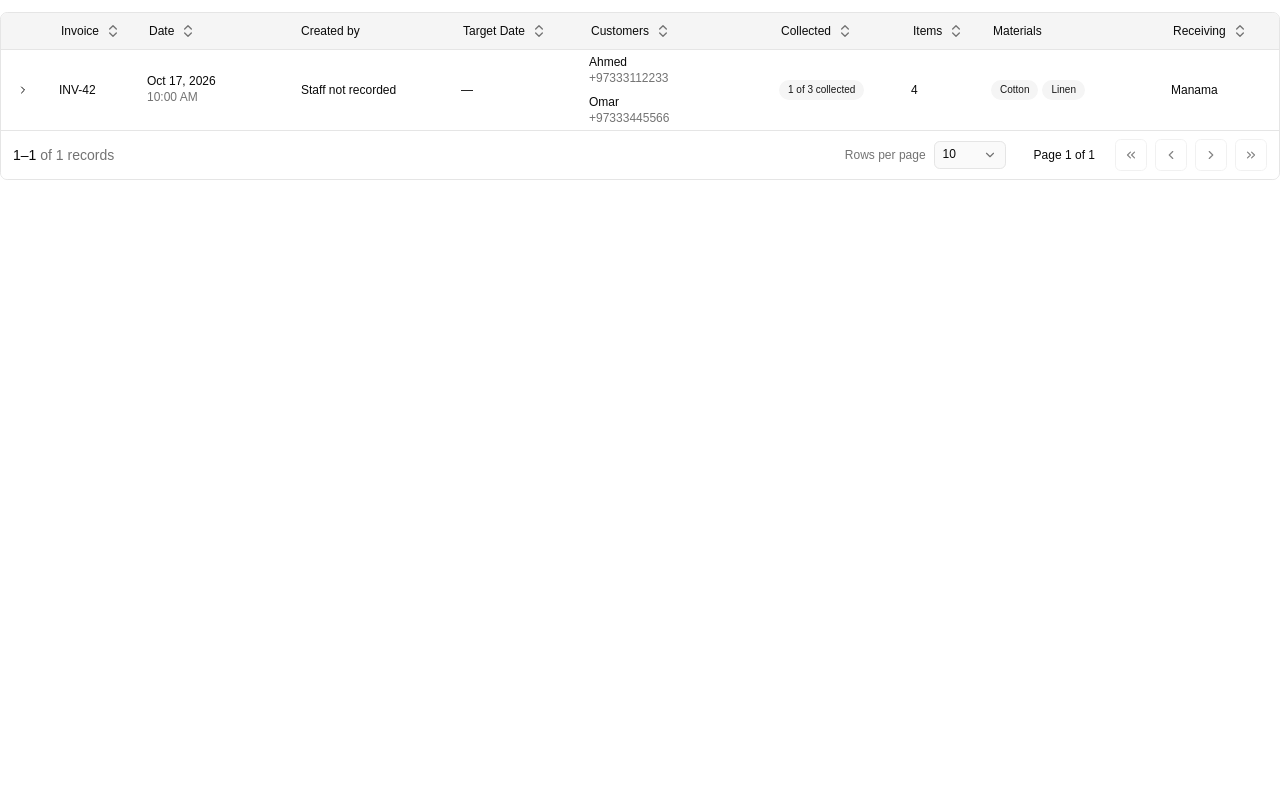
Scenario: Invoice table › shows failures and retries the breakdown instead of showing an empty invoice
Click the button named "Show orders" at (23, 90), box [11,78,35,102]
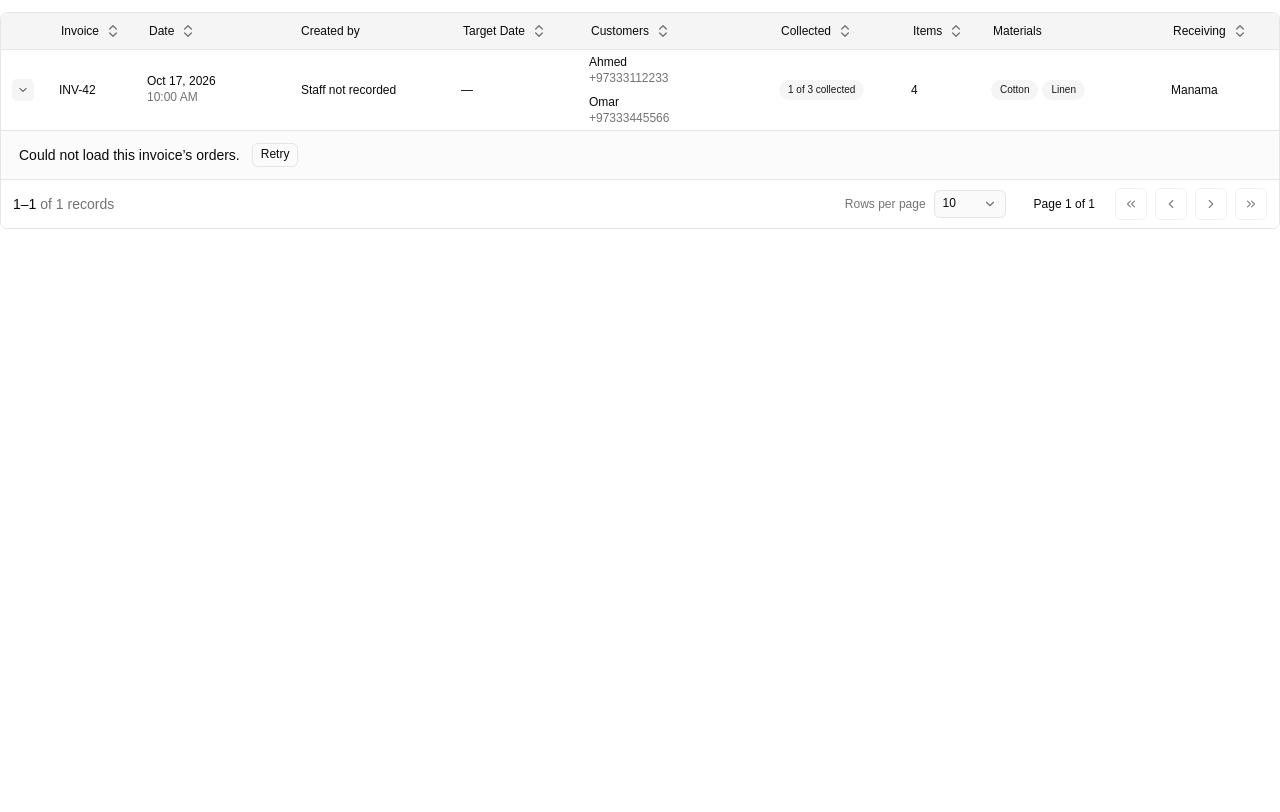
Now the message "Could not load this invoice’s orders. Retry" is shown, box [19,142,298,166]
Click the button "Retry" at (275, 154), box [252,142,298,166]
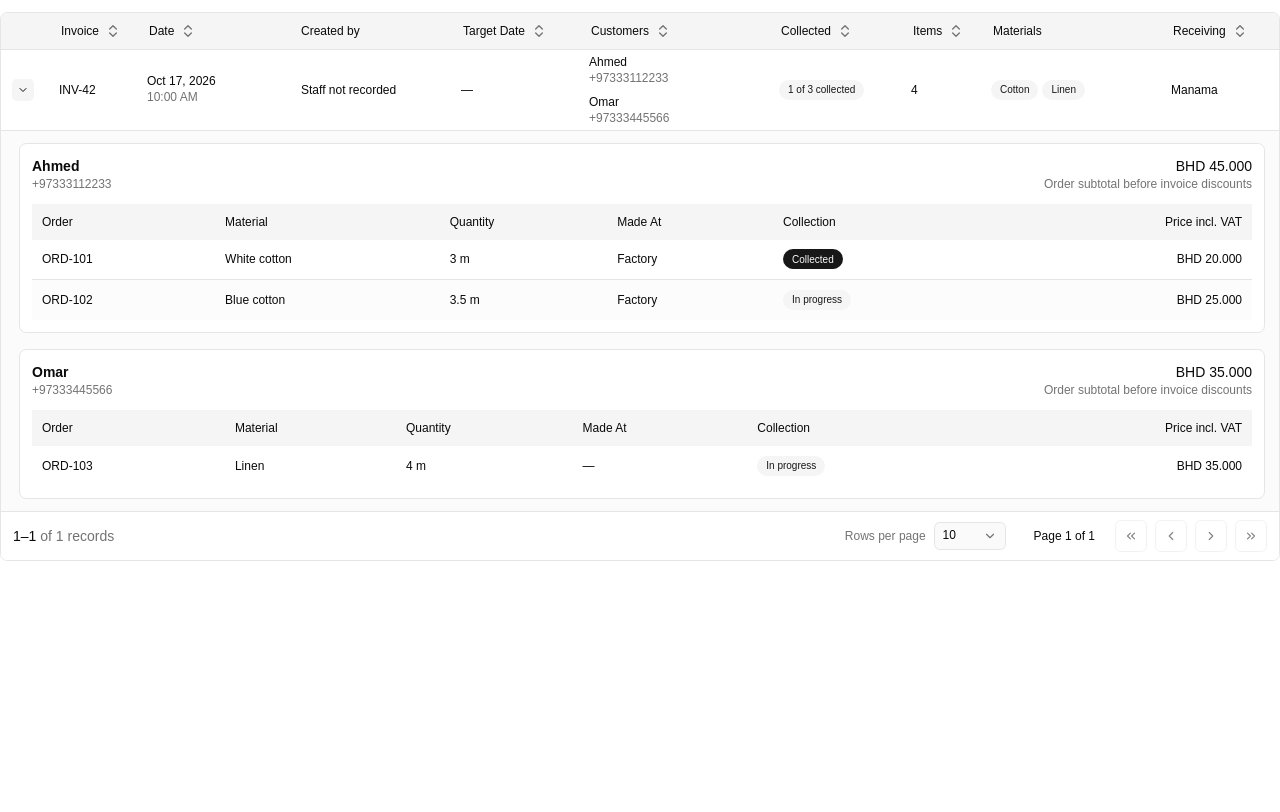
Now the link "ORD-101" is shown, box [42,251,93,267]
Now the message "Could not load this invoice’s orders. Retry" is gone
